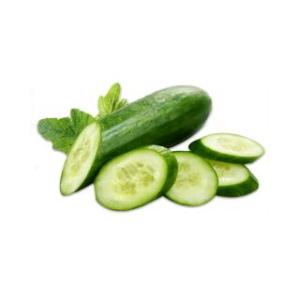cucumber: (57, 86, 215, 198)
